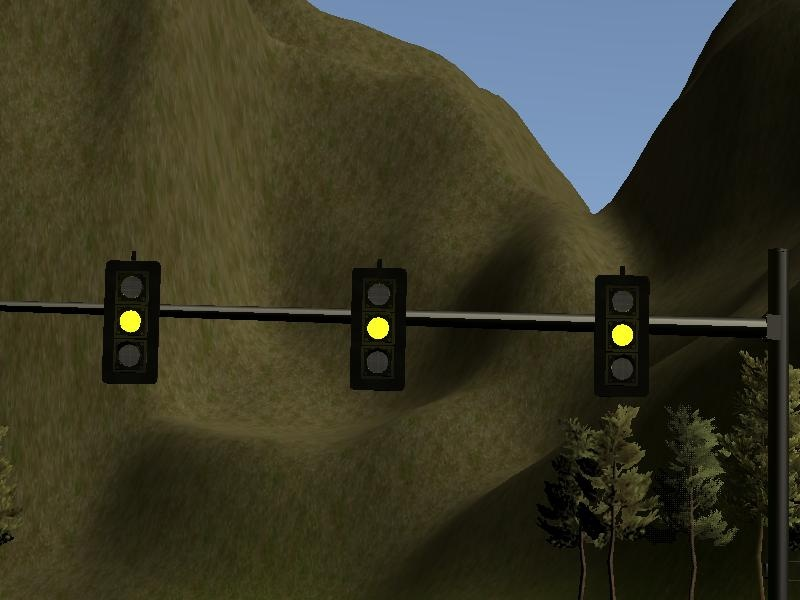YELLOW: (99, 260, 159, 383), (346, 266, 406, 389), (592, 274, 652, 397)
